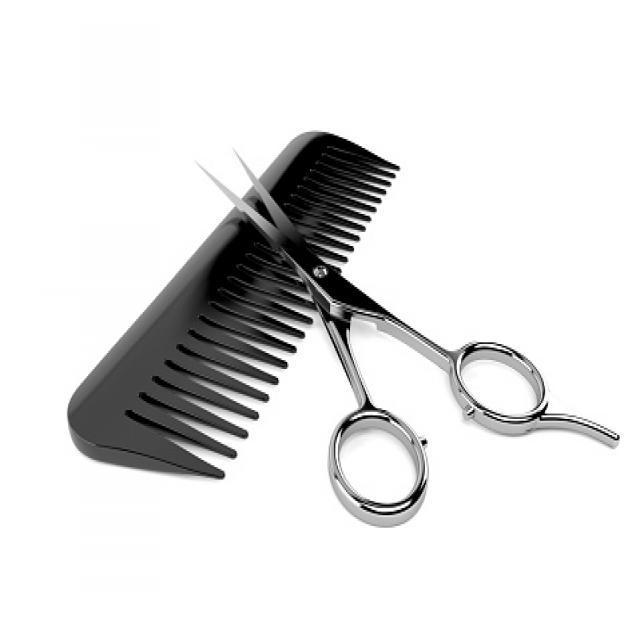scissors: (194, 142, 622, 532)
